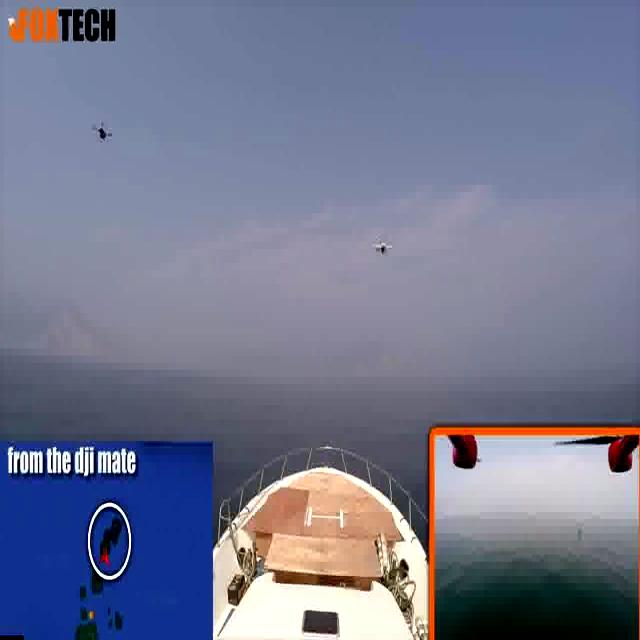drone: (90, 121, 116, 146), (371, 236, 393, 257)
